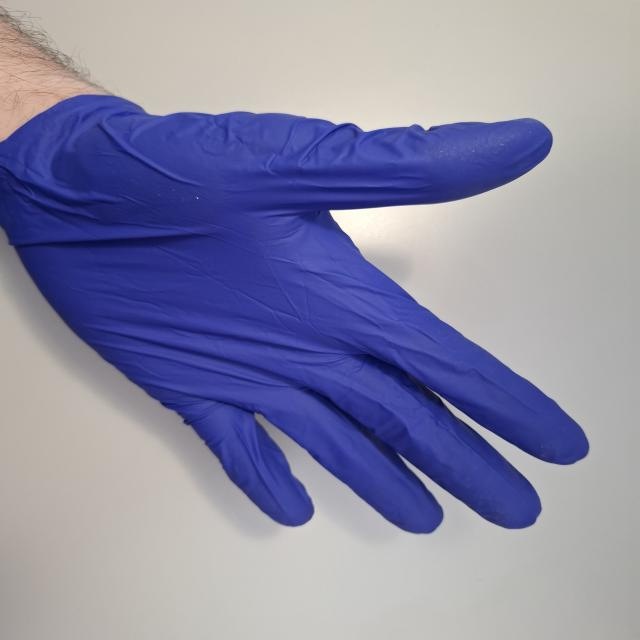glove_on: (0, 89, 602, 536)
